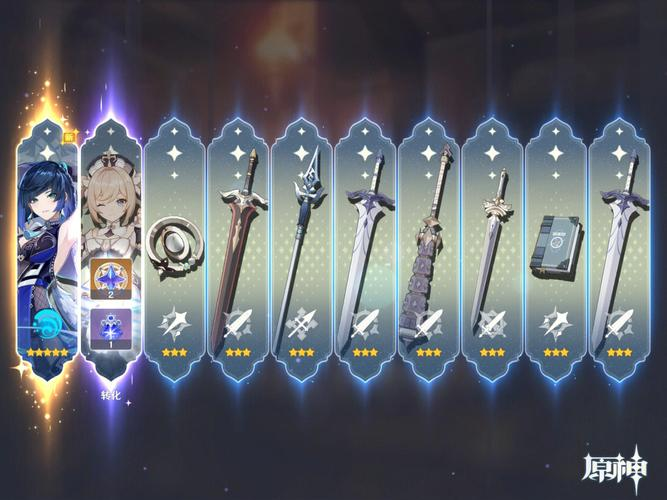夜兰: (16, 155, 77, 371)
